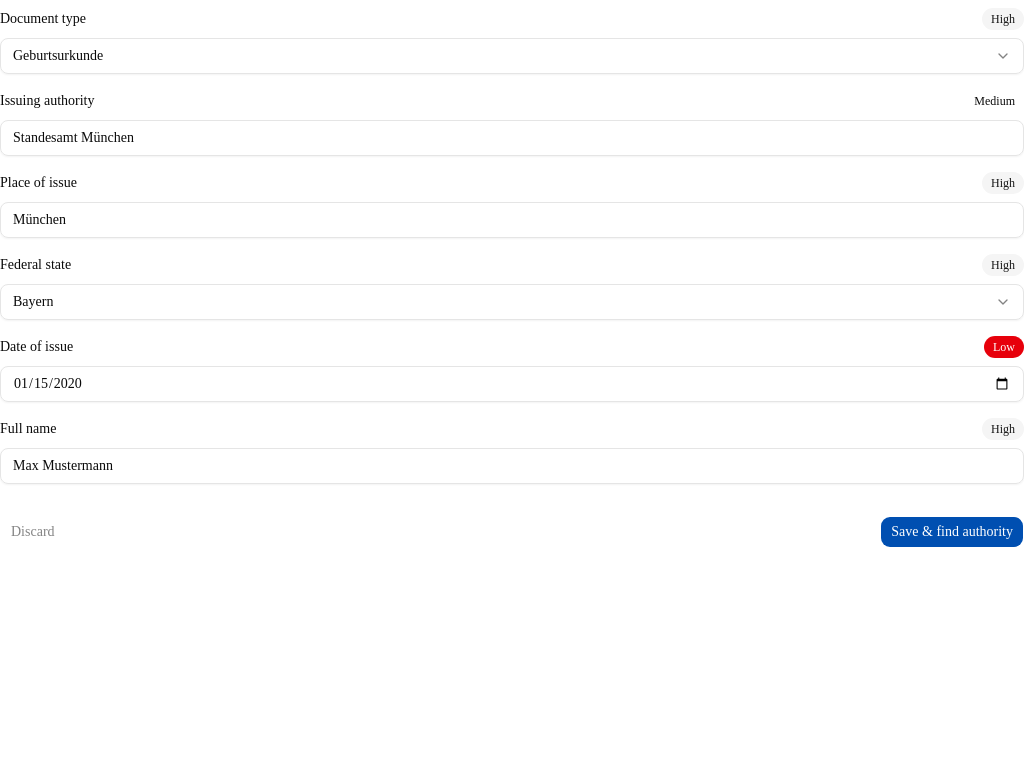
Test: ReviewForm — UI-SPEC Copywriting Contract › opens the discard confirmation dialog with UI-SPEC copy
Note: Make a field dirty to enable Verwerfen
Replace the text in the field labelled "Place of issue" with "Nürnberg" at (512, 220), box [0, 202, 1023, 238]
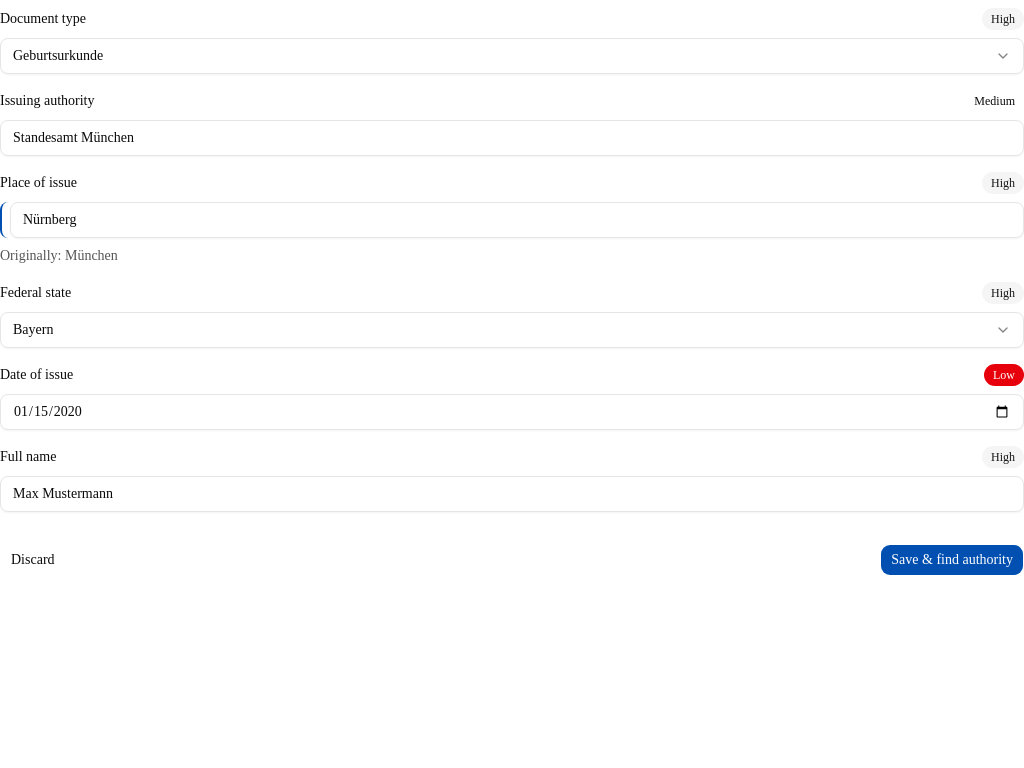
Click the button "Discard" at (33, 560), box [0, 544, 66, 576]
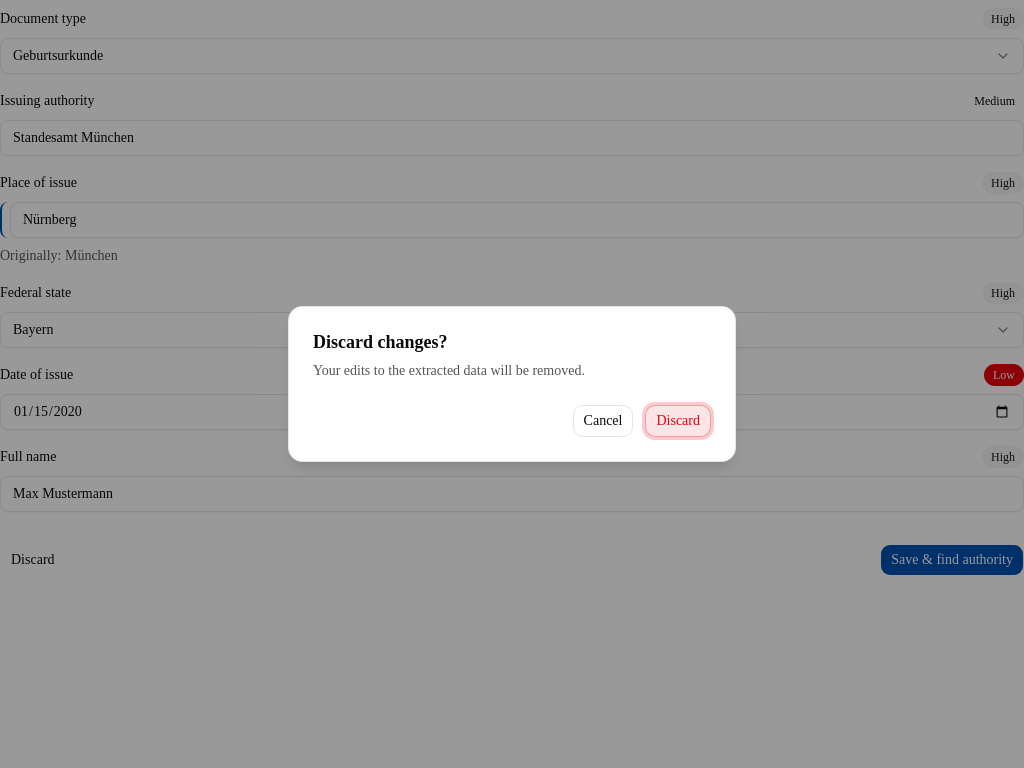
Expected: the dialog "Discard changes?" is shown, [288, 306, 736, 462]
Expected: the text "Your edits to the extracted data will be removed." is shown, [313, 363, 585, 378]
Expected: the button "Cancel" is shown, [573, 405, 634, 437]
